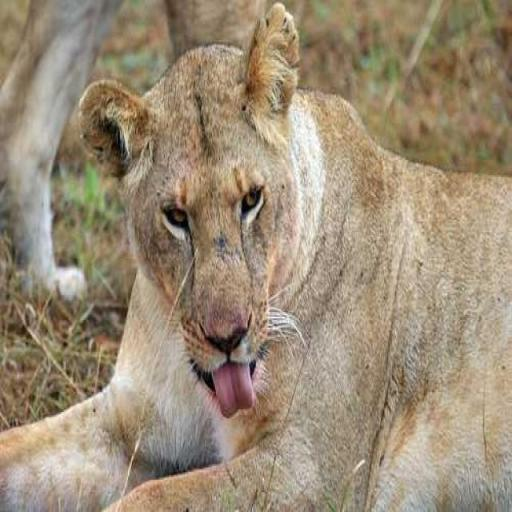Lion: (0, 2, 511, 510)
